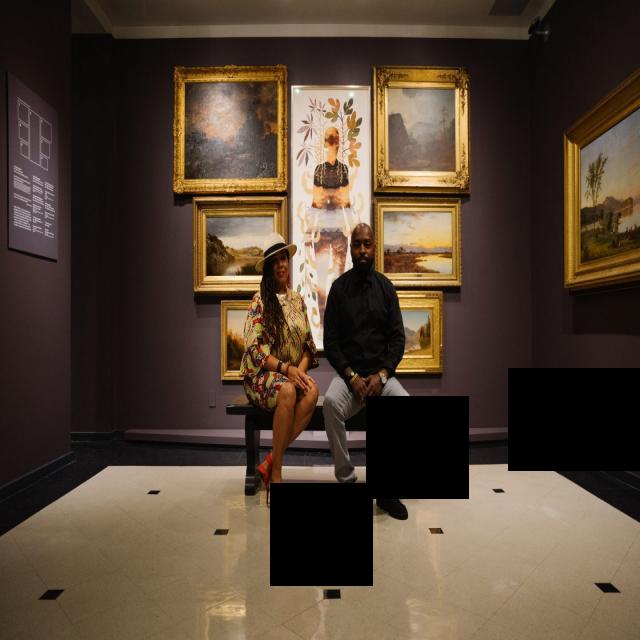Tablo: (291, 88, 370, 352), (579, 105, 640, 265), (183, 79, 278, 180), (387, 87, 456, 172), (383, 210, 453, 274), (205, 214, 275, 277), (227, 308, 259, 372), (394, 308, 432, 356)
